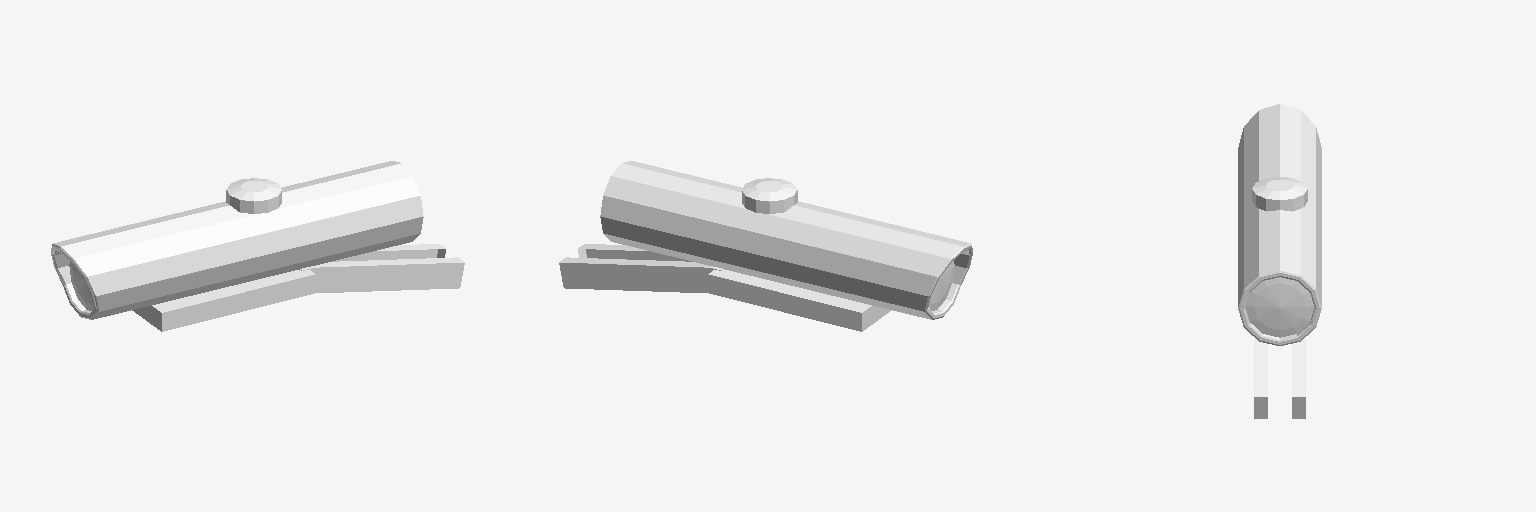
The model's file is Foundation-Standard-Marksman-Rifle-Scope.obj.
3 renders of one model, left to right at view 1: azimuth 30°, elevation 25°; view 2: azimuth 150°, elevation 25°; view 3: azimuth 270°, elevation 25°, orthographic.
Visible parts, largest first — view 1: Foundation-Standard-Marksman-Rifle-Scope; view 2: Foundation-Standard-Marksman-Rifle-Scope; view 3: Foundation-Standard-Marksman-Rifle-Scope.
Boxes of the visible parts, x1=… form: Foundation-Standard-Marksman-Rifle-Scope: x1=51, y1=161, x2=464, y2=331; Foundation-Standard-Marksman-Rifle-Scope: x1=559, y1=161, x2=972, y2=331; Foundation-Standard-Marksman-Rifle-Scope: x1=1238, y1=104, x2=1321, y2=418.
Size of the model in its own units: 3.25 by 1.1 by 0.6001.